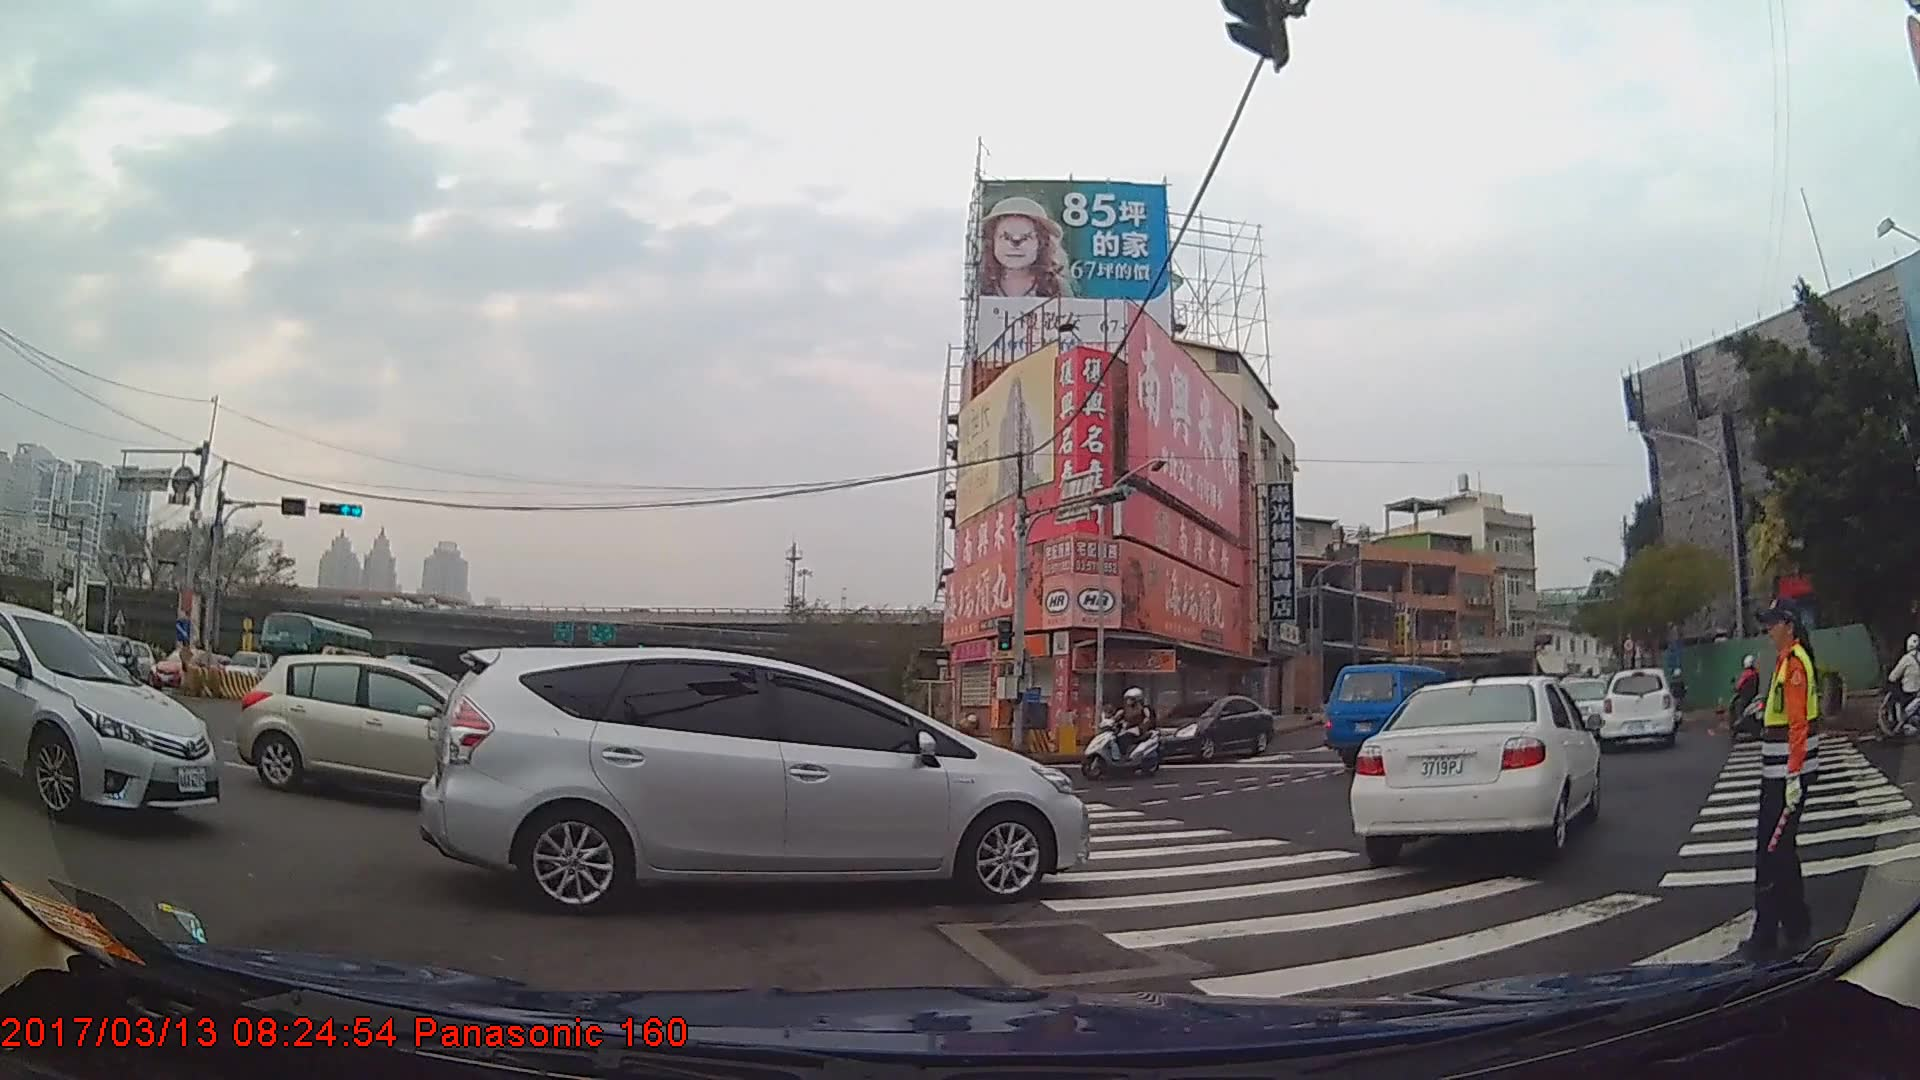pedestrian: (1740, 591, 1826, 948)
rider: (1084, 686, 1168, 778), (1873, 629, 1920, 743), (1727, 653, 1771, 742), (1669, 666, 1689, 727)
vehicle: (418, 643, 1093, 905), (0, 602, 218, 824), (1345, 670, 1599, 859), (238, 649, 525, 805), (1323, 661, 1467, 769), (259, 608, 375, 690), (1148, 694, 1272, 764), (1596, 663, 1675, 752), (146, 641, 225, 691), (223, 648, 276, 688)
